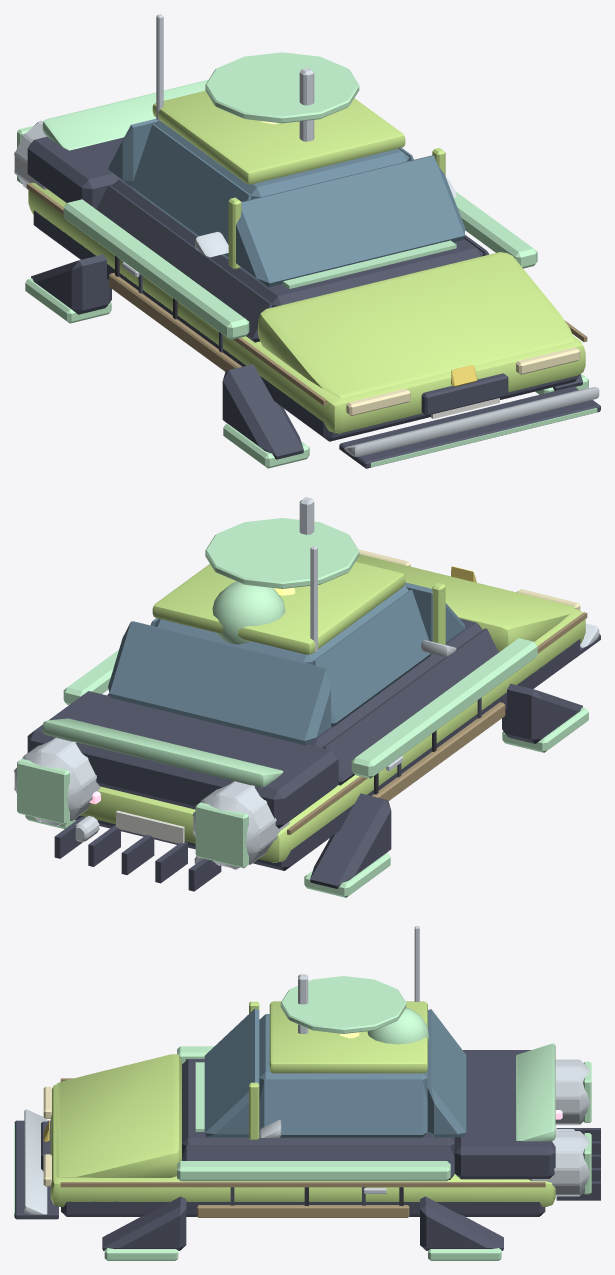
File: moonbeam_mover.fbx
The picture shows the model from 3 angles, top to bottom: view 1: azimuth 30°, elevation 25°; view 2: azimuth 150°, elevation 25°; view 3: azimuth 270°, elevation 25°; orthographic projection. The views are drawn at different scales.
Visible parts, largest first — view 1: Body, Trim, Glass, Light, Accent, Accent3, Accent2, Light2; view 2: Trim, Glass, Light, Body, Accent, Accent3, Accent2, Accent4, Metal, Light2; view 3: Body, Trim, Glass, Light, Accent, Accent2, Accent3, Light2.
Boxes of the visible parts, x1=… form: Body: x1=28, y1=91, x2=585, y2=433; Trim: x1=27, y1=136, x2=600, y2=468; Glass: x1=108, y1=118, x2=464, y2=287; Light: x1=17, y1=52, x2=597, y2=468; Accent: x1=14, y1=14, x2=599, y2=456; Accent3: x1=42, y1=79, x2=456, y2=288; Accent2: x1=26, y1=183, x2=587, y2=405; Light2: x1=346, y1=347, x2=580, y2=416; Trim: x1=27, y1=618, x2=600, y2=891; Glass: x1=108, y1=582, x2=464, y2=745; Light: x1=17, y1=518, x2=588, y2=897; Body: x1=80, y1=554, x2=585, y2=862; Accent: x1=14, y1=497, x2=599, y2=869; Accent3: x1=42, y1=718, x2=283, y2=787; Accent2: x1=287, y1=612, x2=587, y2=834; Accent4: x1=116, y1=810, x2=184, y2=843; Metal: x1=75, y1=756, x2=403, y2=866; Light2: x1=358, y1=549, x2=580, y2=610; Body: x1=50, y1=1001, x2=555, y2=1206; Trim: x1=14, y1=1050, x2=600, y2=1250; Glass: x1=204, y1=1008, x2=466, y2=1137; Light: x1=14, y1=976, x2=591, y2=1260; Accent: x1=24, y1=926, x2=589, y2=1214; Accent2: x1=60, y1=1078, x2=545, y2=1217; Accent3: x1=195, y1=1043, x2=555, y2=1141; Light2: x1=43, y1=1086, x2=51, y2=1186.
Bounding box in the file's own units: 2.9 × 2.52 × 5.58.
